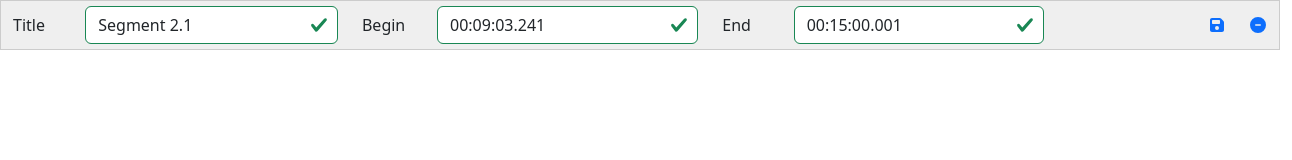
Scenario: TimespanInlineForm component › validates form › when begin/end times are changed by user input
The width and height of the screenshot is (1292, 160).
Expected: the button with test id "inline-form-save-button" is enabled, [1197,6,1237,44]
Change begin time
Step 1. Replace the text in the field with test id "timespan-inline-form-begintime" with "00:" → (568, 25), box [437,6,698,44]
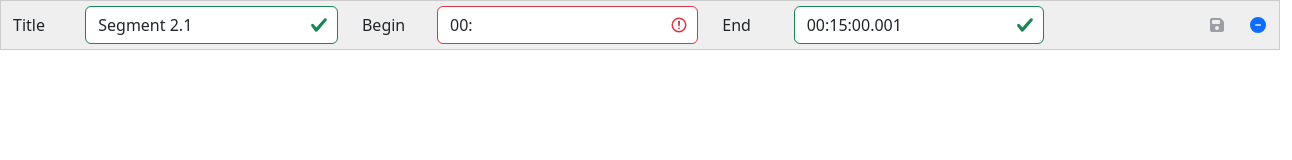
Result: the button with test id "inline-form-save-button" is disabled at [1197,6,1237,44]
